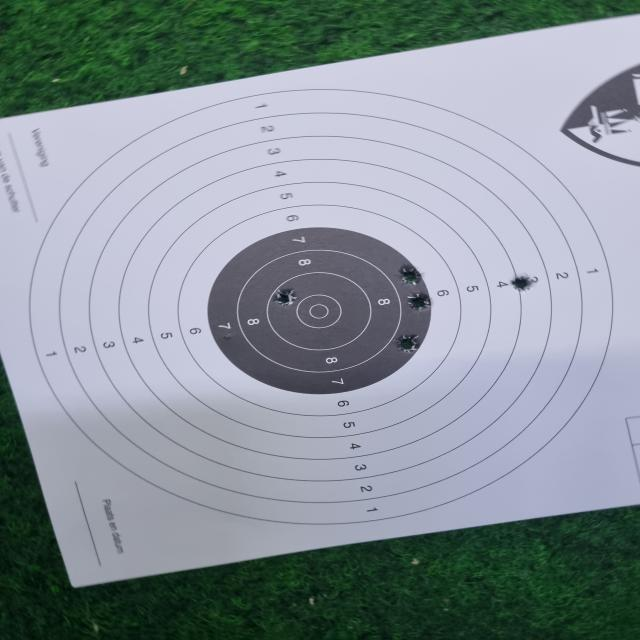4: (511, 276, 533, 292)
7: (398, 334, 420, 353), (408, 293, 430, 311), (401, 268, 423, 285)
9: (272, 288, 298, 306)
Target: (28, 88, 615, 525)
black_contour: (207, 227, 432, 394)
